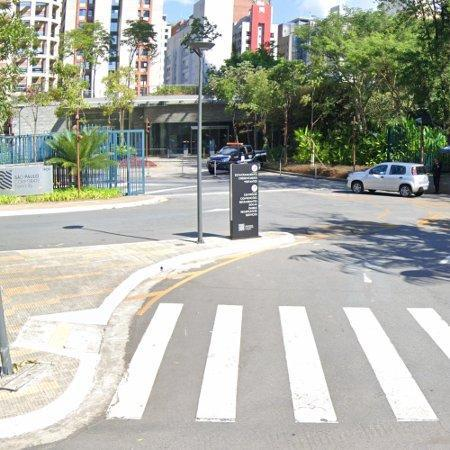crosswalks: (102, 304, 450, 423)
